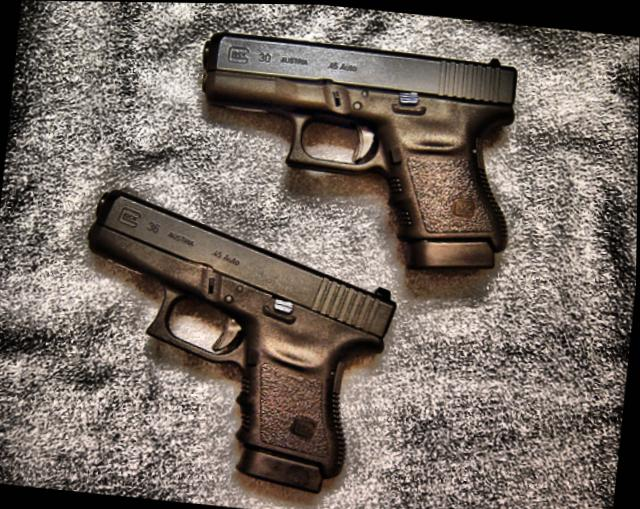pistol: (63, 181, 404, 499), (177, 24, 529, 273)
